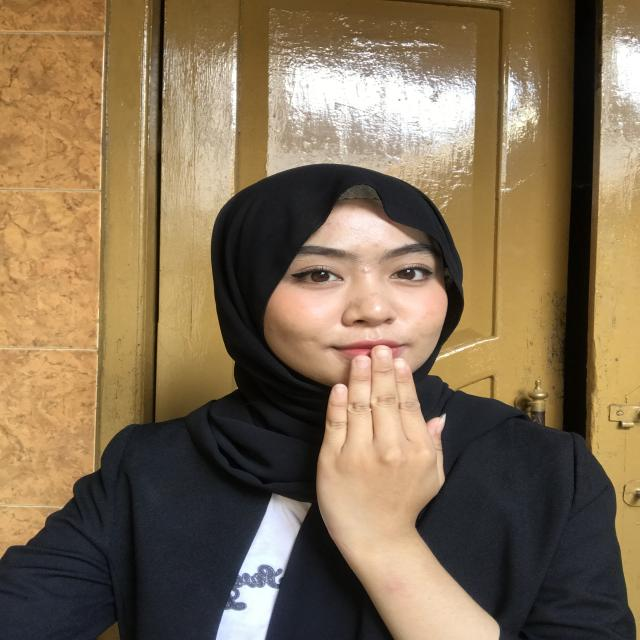ganteng: (306, 336, 464, 543)
